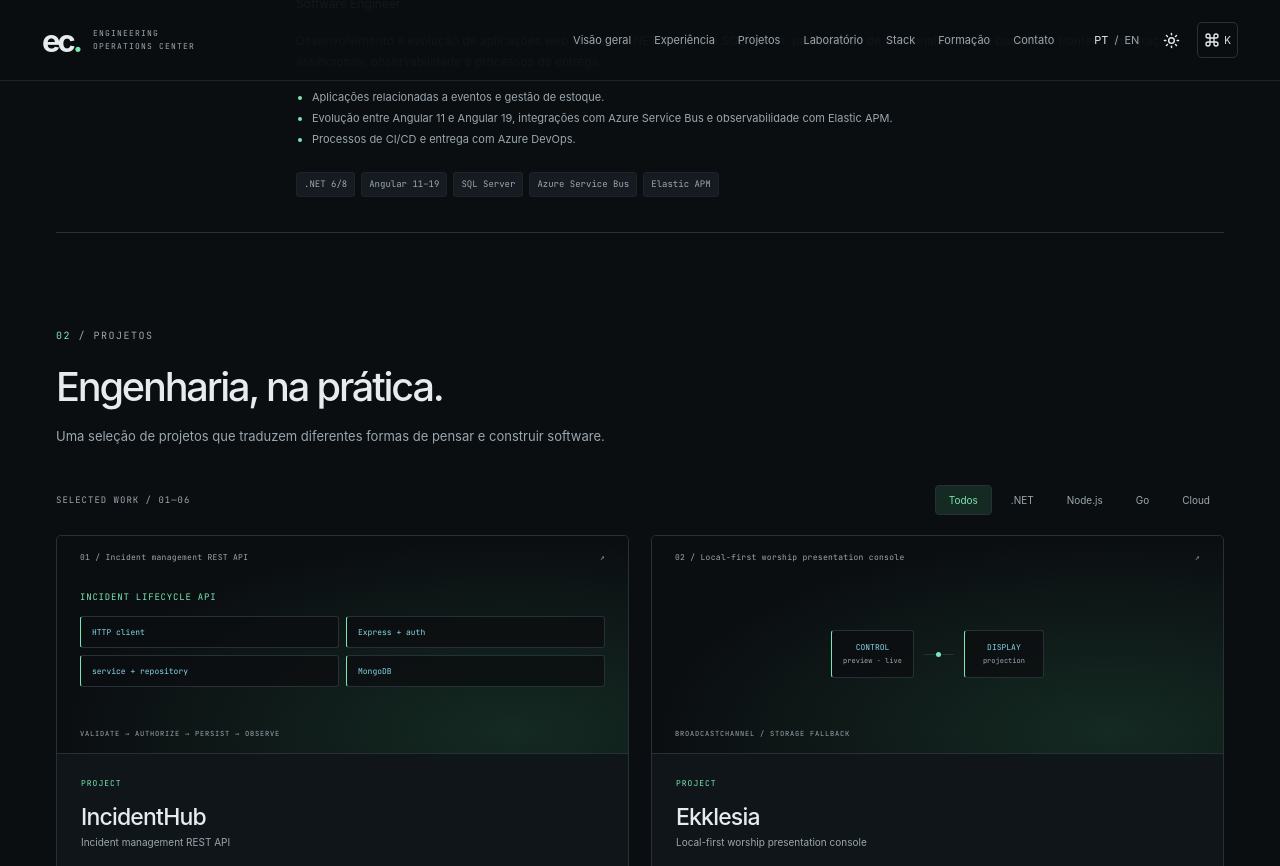
Test case: professional profile › filters featured projects without removing the engineering lab
(page scrolled)
What coordinates should you click on to do the following:
click the button "Go"
I would click on:
 (1143, 500)
Its box is x1=1122 y1=485 x2=1163 y2=515.
(page scrolled)
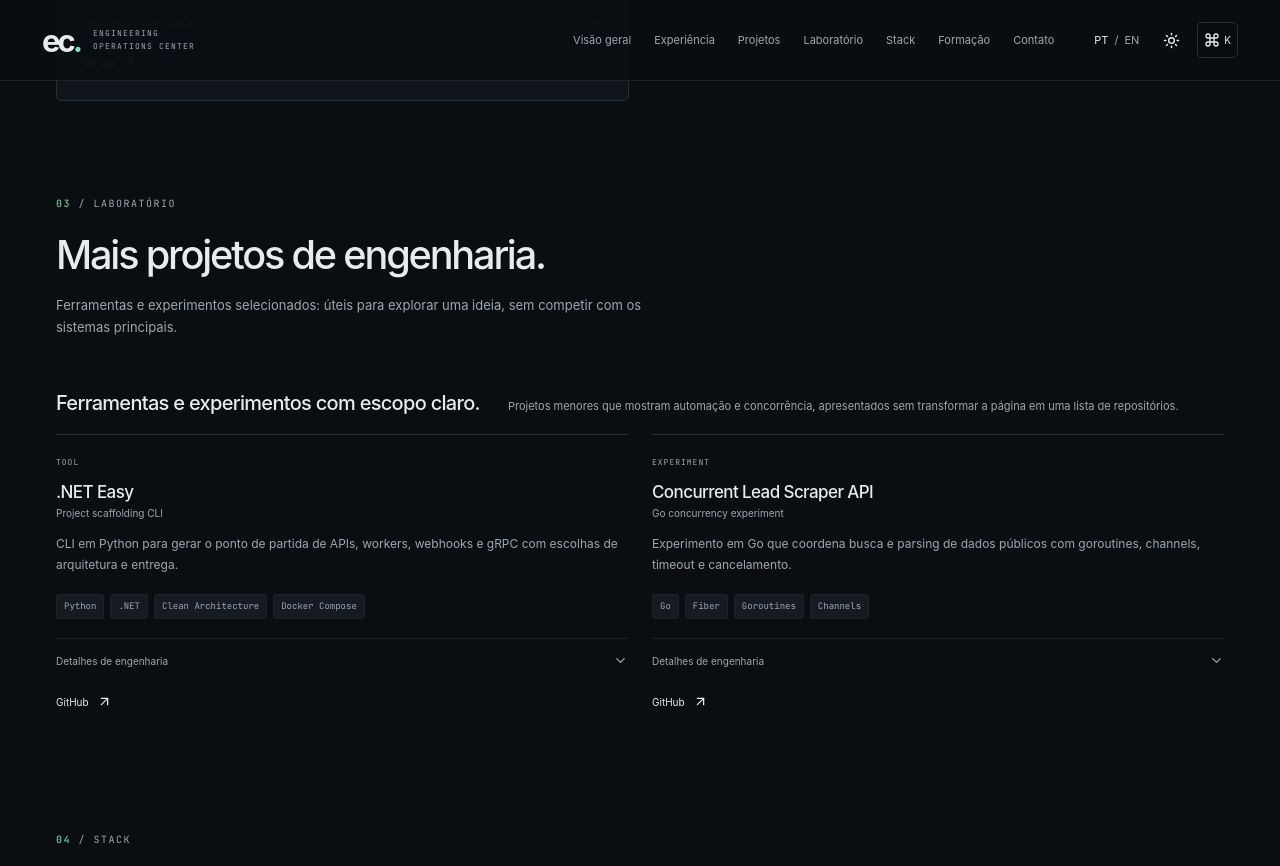
Expected: the heading ".NET Easy Project scaffolding CLI" is shown, x1=56 y1=482 x2=163 y2=519
Now the heading "IncidentHub" is gone
